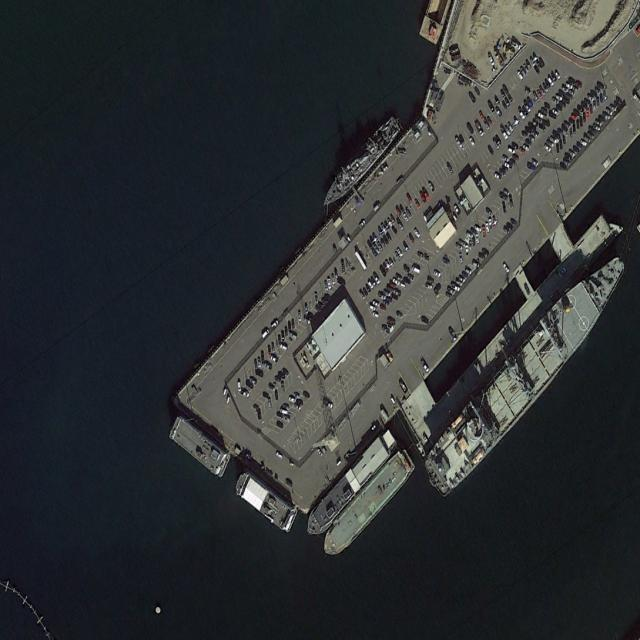Other Ship: (417, 239, 636, 508), (300, 422, 398, 545), (317, 444, 417, 564), (318, 110, 401, 212)
Other Warship: (167, 410, 233, 483), (233, 465, 298, 536)
